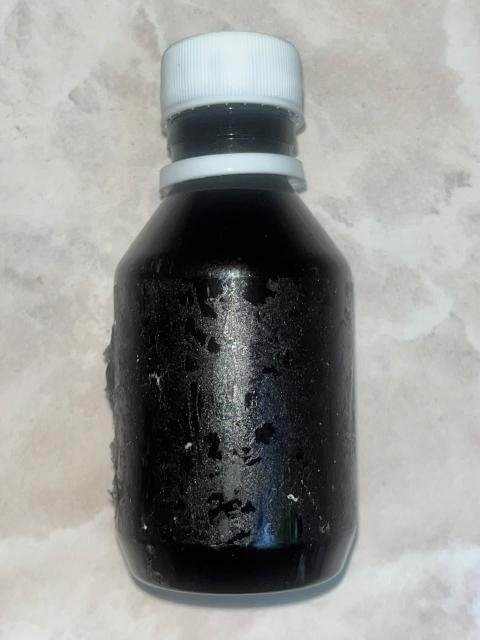HDPE: (105, 33, 386, 610)
